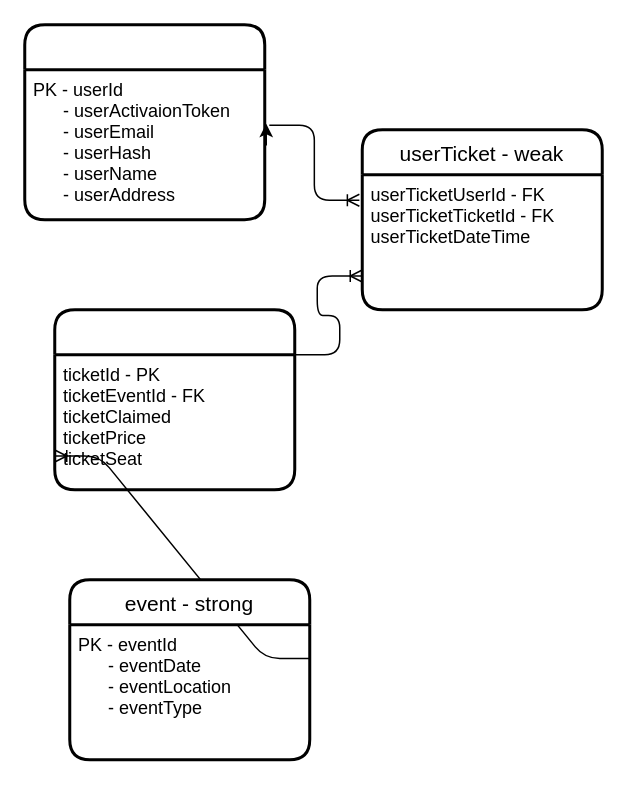
Image size: 627x785. Some labels were removed from this diagram. Here are the shapes that lost their labels. From the top down, the box of each, then its label:
(22, 22, 266, 220): user - strong
(52, 308, 296, 490): ticket - strong
